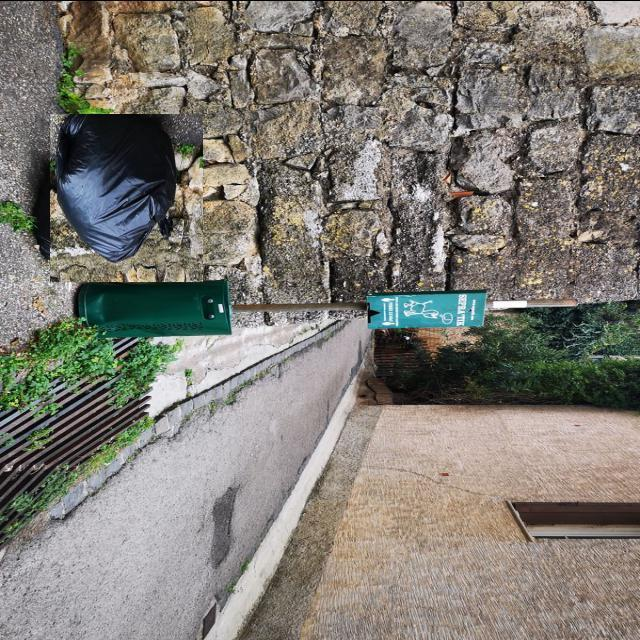Trashbag: (36, 106, 200, 256)
